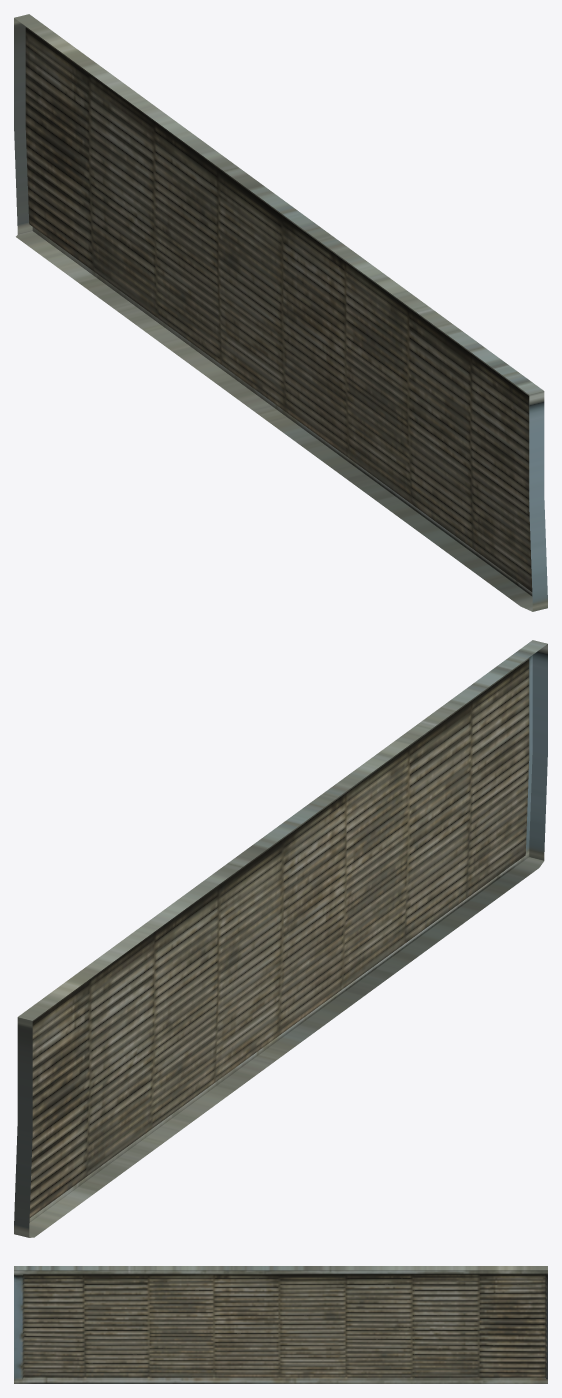
File: Corridor_00_07.fbx
3 views of the same model, one above another, from view 1: azimuth 30°, elevation 25°; view 2: azimuth 150°, elevation 25°; view 3: azimuth 270°, elevation 25° (orthographic). The views are drawn at different scales.
Parts seen in each view (by area): view 1: Corridor_00_07; view 2: Corridor_00_07; view 3: Corridor_00_07.
Part boxes in pixels (x1,y1,x2,y2): Corridor_00_07: [14, 14, 547, 611]; Corridor_00_07: [14, 640, 547, 1237]; Corridor_00_07: [14, 1266, 547, 1383].
Bounding box in the file's own units: 29.94 × 332 × 1422.
